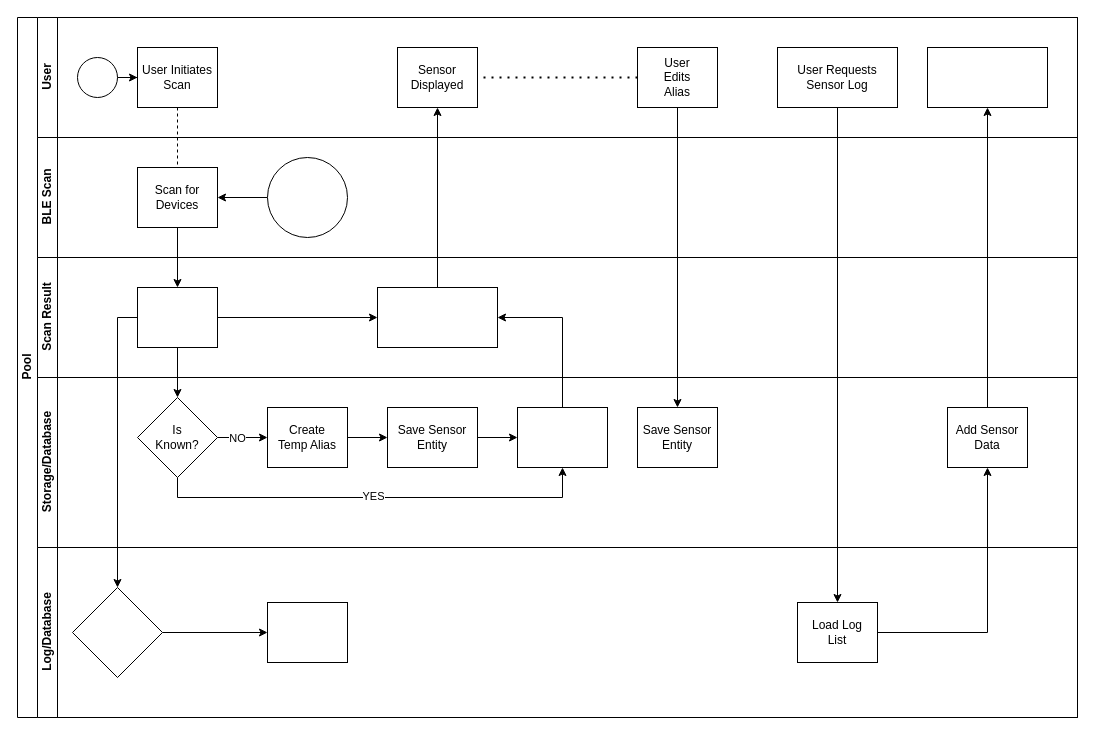
Some shapes in this 1095 by 735 pixel diagram are drawn without their labels. The centre of each missing label's shape, as x and y in pixels:
"APP" belongs at (97,77).
"Display Log" belongs at (987,77).
"Generate Display Object" belongs at (437,317).
"Is Instance Logged?" belongs at (117,632).
"Process Advertiser" belongs at (177,317).
"Read Alias" belongs at (562,437).
"Save Log Entity" belongs at (307,632).
"Sensor Responds" belongs at (307,197).
